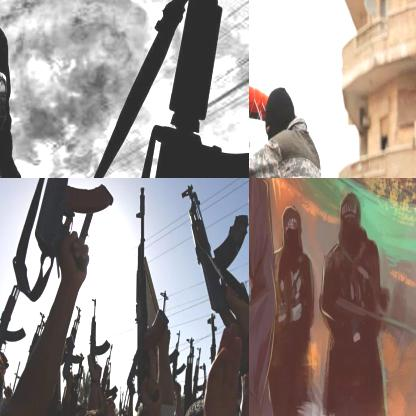rifle: (134, 0, 248, 177), (9, 178, 116, 297), (126, 182, 172, 404), (176, 181, 248, 319), (327, 295, 415, 355), (84, 297, 112, 368), (204, 308, 221, 366)
